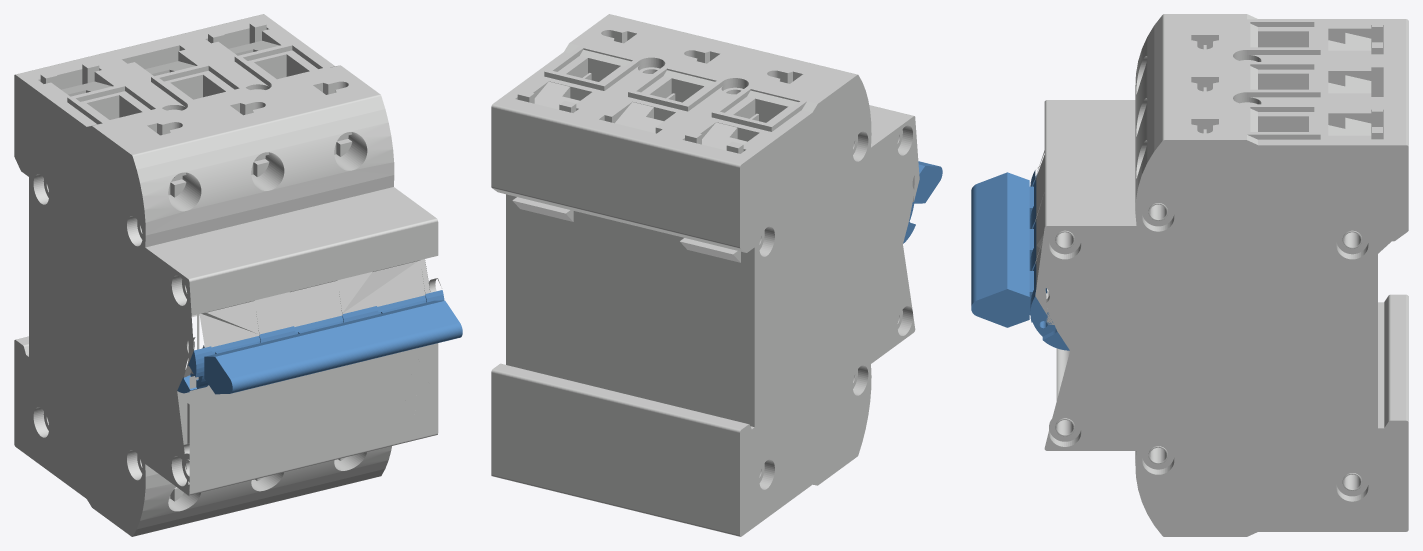
The model's file is weg-mdw-c10-3p.glb.
3 views of the same model, side by side, from view 1: azimuth 30°, elevation 25°; view 2: azimuth 150°, elevation 25°; view 3: azimuth 270°, elevation 25° (orthographic). The views are drawn at different scales.
Parts seen in each view (by area): view 1: weg_corpo_1, dcsimu_handle_1; view 2: weg_corpo_1, dcsimu_handle_1; view 3: weg_corpo_1, dcsimu_handle_1.
Boxes of the visible parts, x1,y1,x2,y2 form: weg_corpo_1: (14,14,440,536); dcsimu_handle_1: (177,290,462,394); weg_corpo_1: (491,14,919,536); dcsimu_handle_1: (903,161,942,243); weg_corpo_1: (1035,14,1408,536); dcsimu_handle_1: (971,170,1069,350).
Size of the model in its own units: 0.0535 by 0.0785 by 0.0784.
